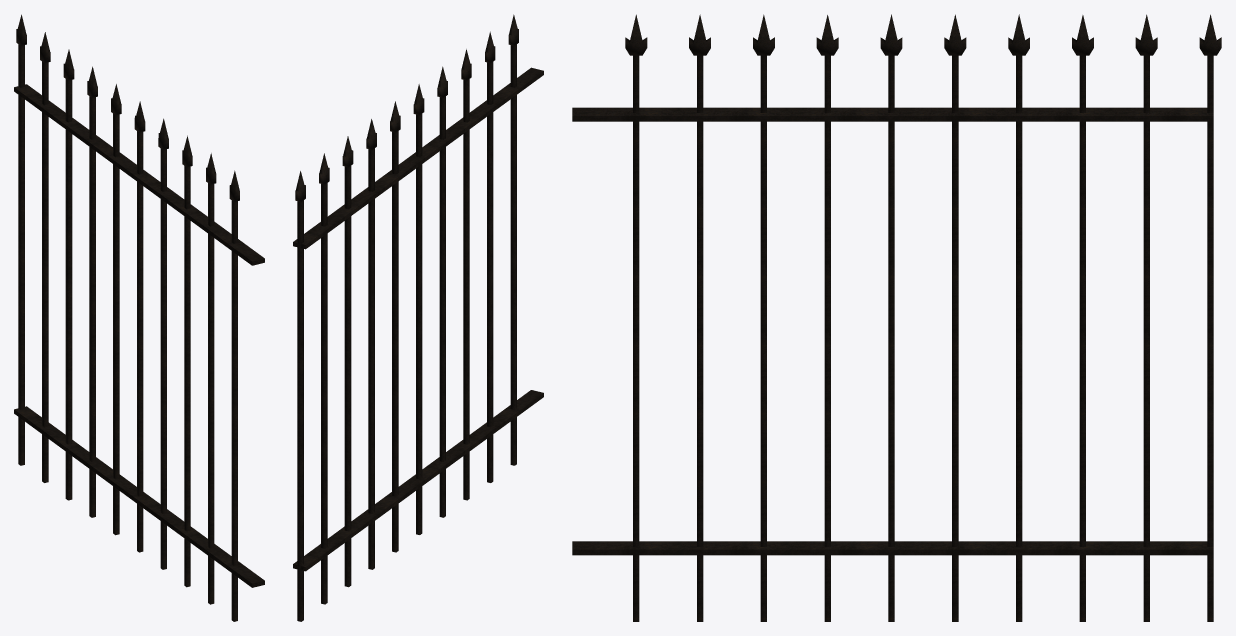
File: railing.DAE
The picture shows the model from 3 angles, left to right: view 1: azimuth 30°, elevation 25°; view 2: azimuth 150°, elevation 25°; view 3: azimuth 270°, elevation 25°; orthographic projection. The views are drawn at different scales.
Visible parts, largest first — view 1: Box013; view 2: Box013; view 3: Box013.
Part boxes in pixels (box(x1,y1,x2,y2)): Box013: box(14, 14, 264, 621); Box013: box(293, 14, 543, 621); Box013: box(572, 14, 1221, 621).
Bounding box in the file's own units: 0.1236 × 4.07 × 4.2.
